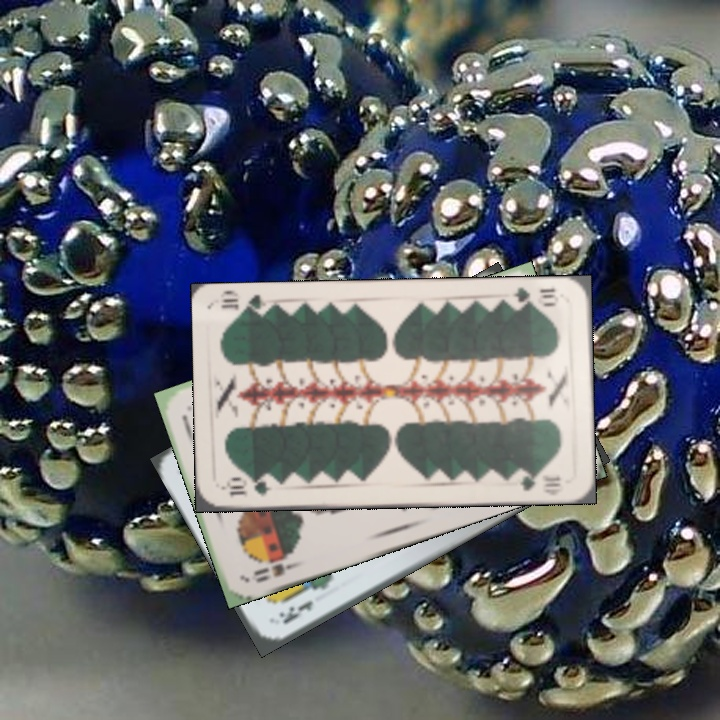EK: (275, 596, 315, 627)
G10: (510, 283, 561, 311), (220, 475, 275, 499)
SO: (249, 558, 303, 585)
